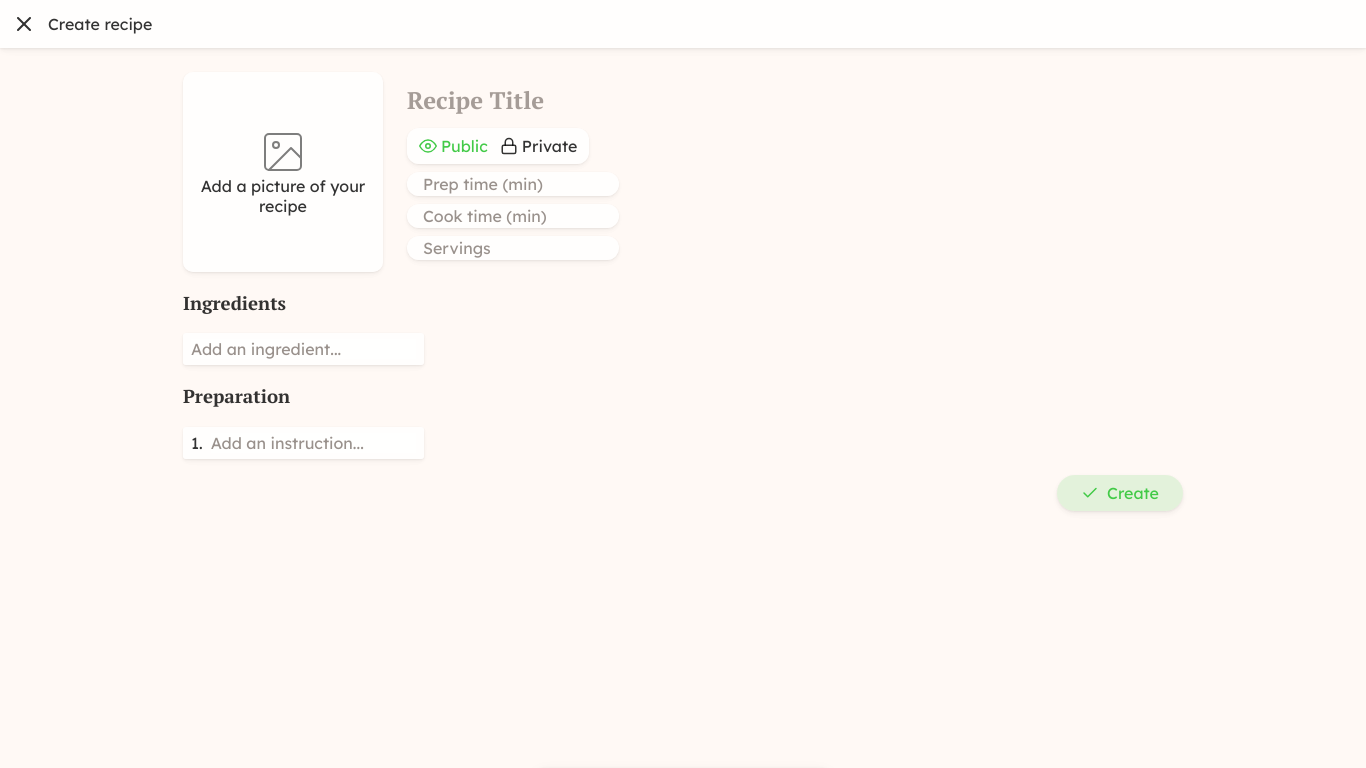
Test: prompts the user to close when unsaved data is there
Type "burritos" into the field with placeholder "Recipe Title". click: (795, 100)
box: [407,84,1183,116]
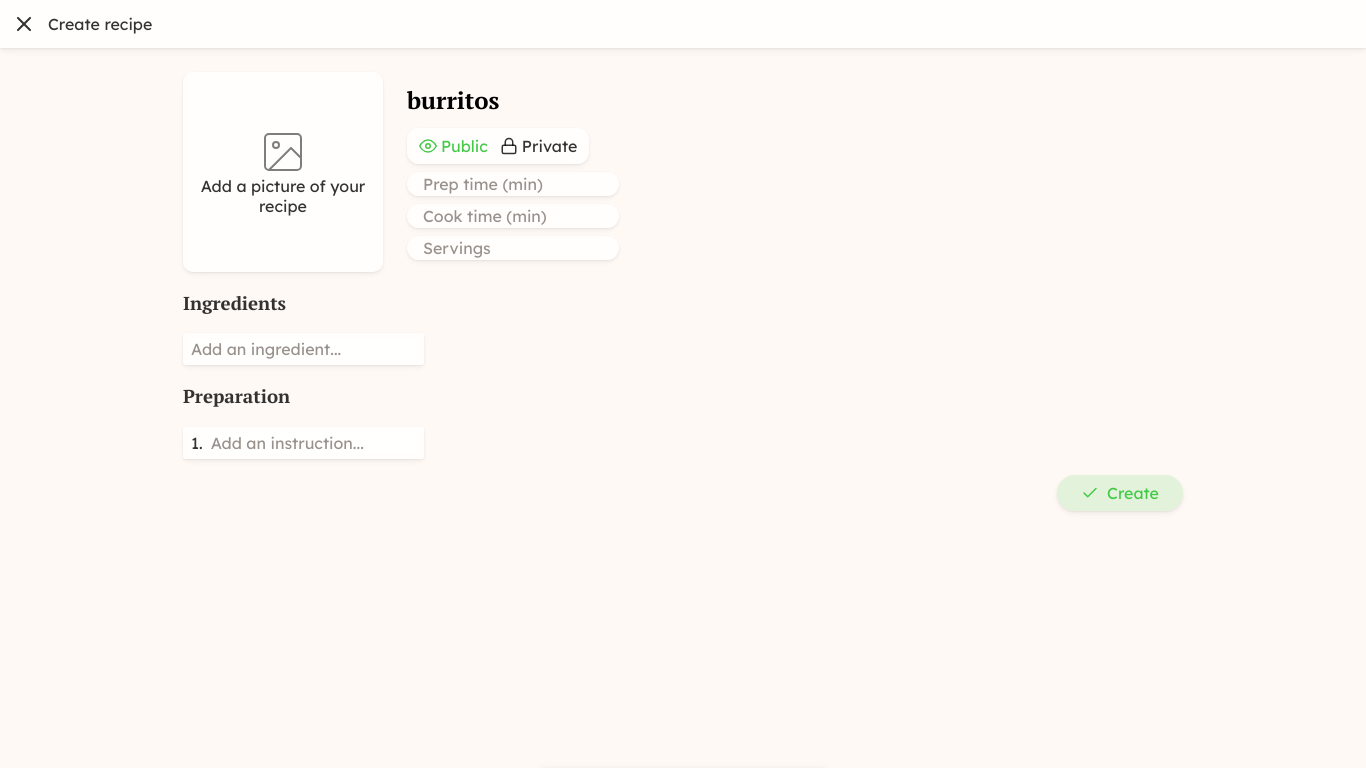
Click the button named "Close". click: (24, 24)
box: [0,0,48,48]
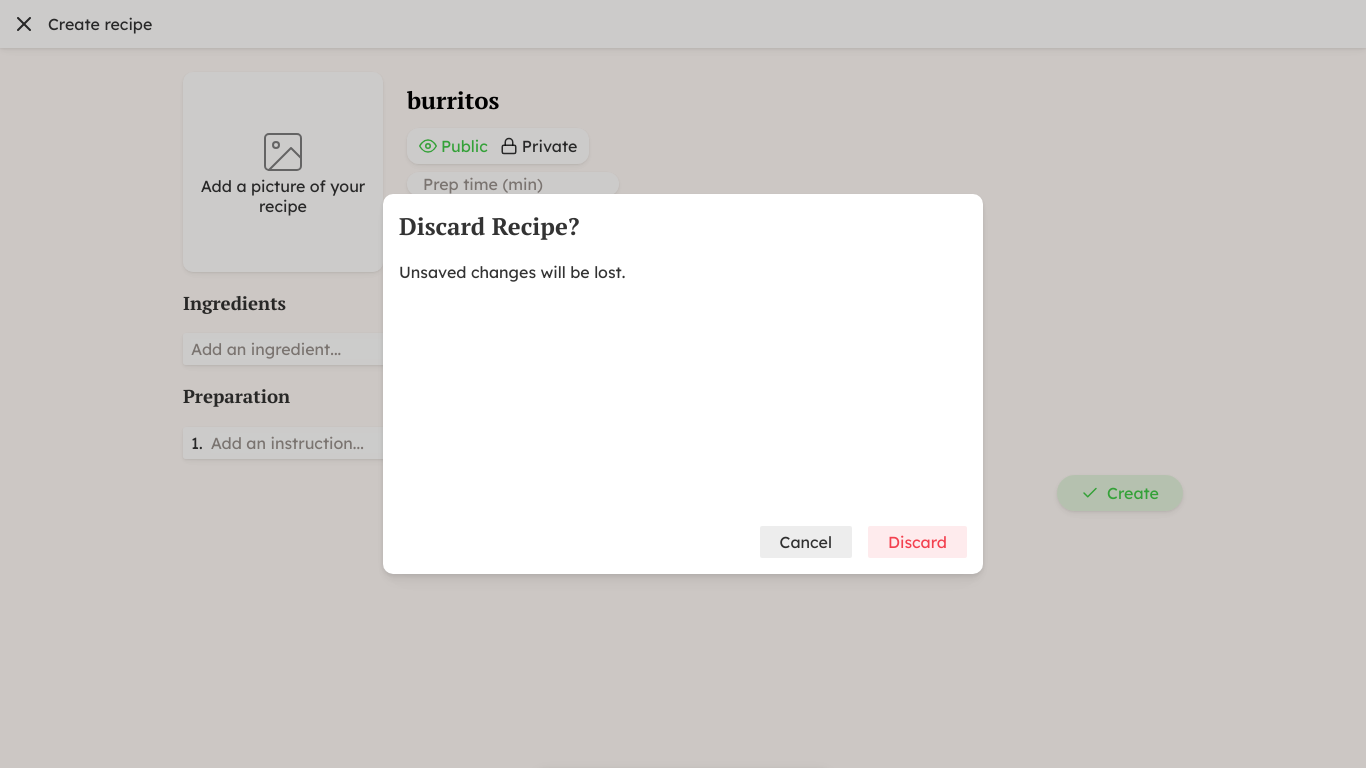
Result: the button "Discard" is shown at [868,526,967,558]
